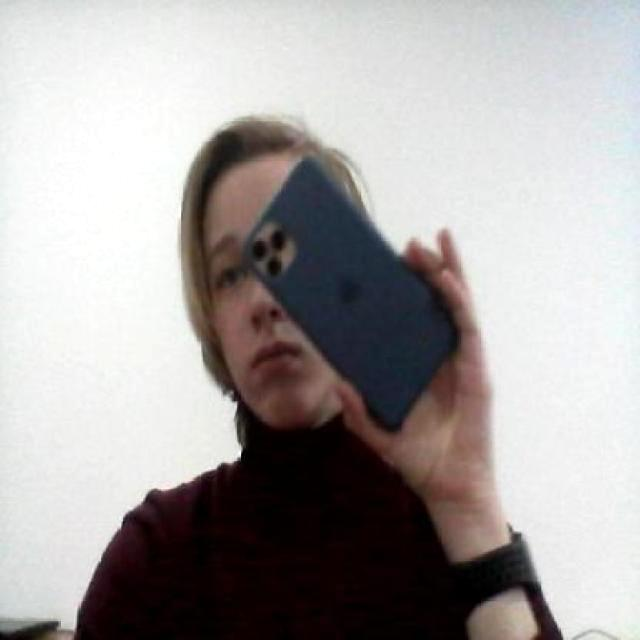lens_back: (250, 238, 269, 260), (270, 229, 287, 249), (267, 258, 284, 277)
phone: (246, 155, 463, 438)
